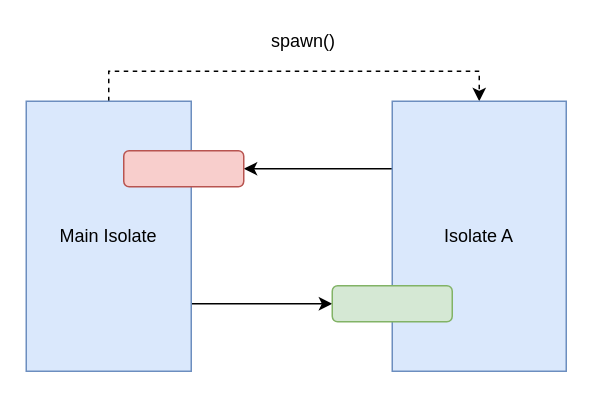
This 593x398 diagram has some shape labels left out. Each missing label, with the centre of its shape:
"ReceivePort" goes at pixel 183 168.
"SendPort" goes at pixel 391 303.
